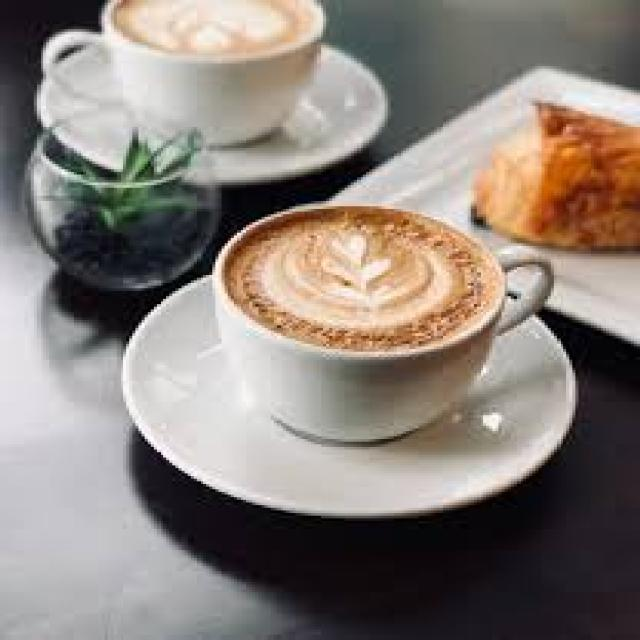taza: (180, 200, 560, 436), (31, 0, 336, 159)
